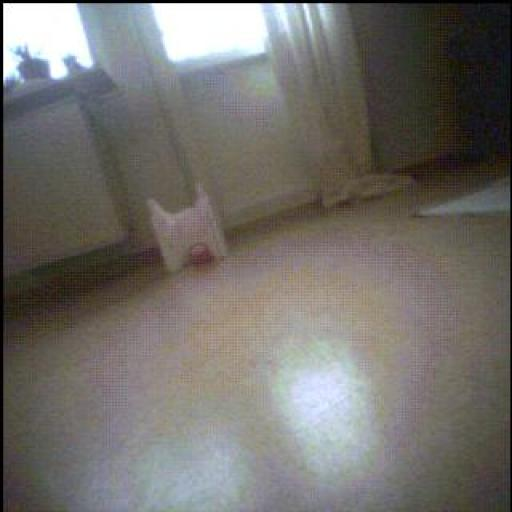Basket: (190, 244, 215, 267)
